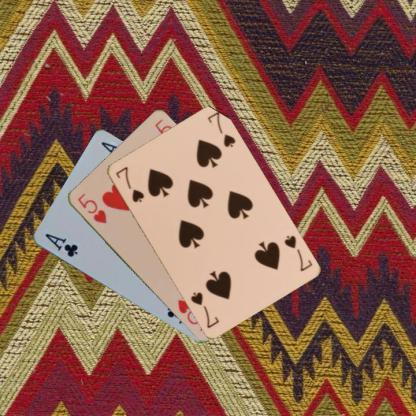5h: (74, 190, 108, 224)
7s: (112, 164, 145, 204), (281, 232, 313, 273)
Ac: (42, 230, 79, 259)
